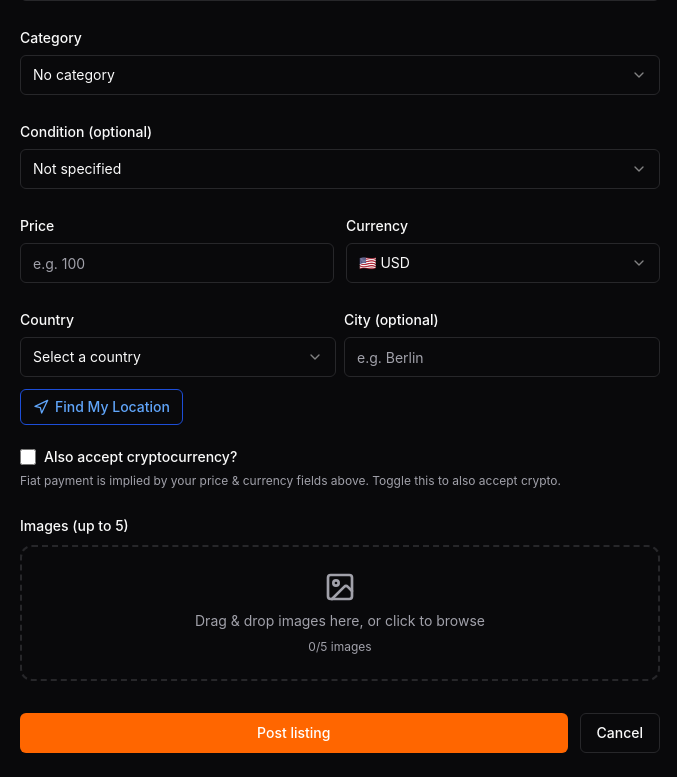
it: CreateListingPage — crypto toggles › shows crypto buttons when checkbox is checked
(page scrolled)
Check: the button "Bitcoin" is not shown
Check the checkbox
Step 1. Click the checkbox labelled "Also accept cryptocurrency?" → click(28, 457), box [20,449,36,465]
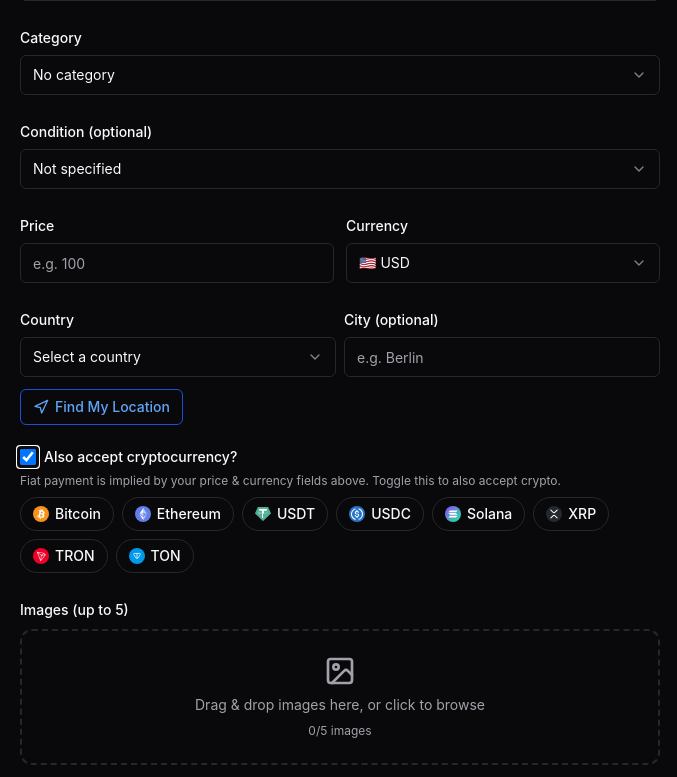
Check: the button "Bitcoin" is shown, box [20,497,114,531]
Check: the button "Ethereum" is shown, box [122,497,234,531]
